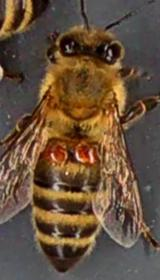varroa_mite: (70, 133, 102, 172), (40, 138, 77, 170)
